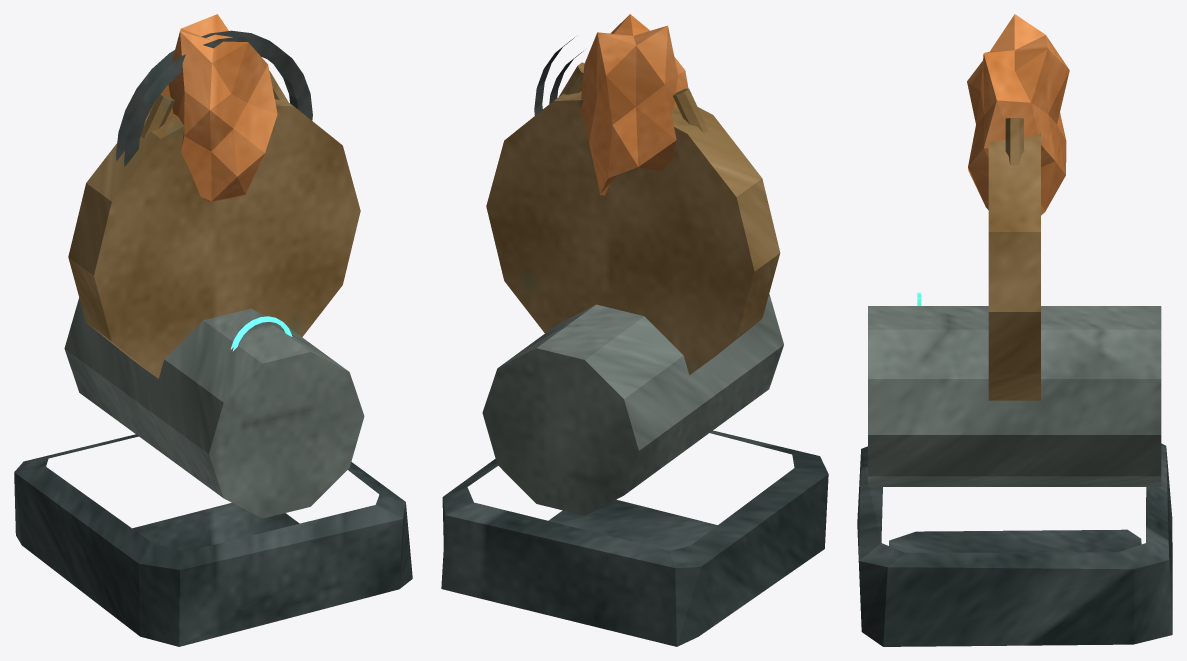
The model's file is 0595_relic_pedestal_20.glb.
3 renders of one model, left to right at view 1: azimuth 30°, elevation 25°; view 2: azimuth 150°, elevation 25°; view 3: azimuth 270°, elevation 25°, orthographic.
Parts seen in each view (by area): view 1: brass, stone_dark, stone, amber, iron; view 2: brass, stone_dark, stone, amber, iron; view 3: stone, stone_dark, brass, amber.
Boxes of the visible parts, x1=… form: brass: x1=68, y1=71, x2=360, y2=378; stone_dark: x1=14, y1=434, x2=412, y2=646; stone: x1=64, y1=298, x2=364, y2=518; amber: x1=149, y1=14, x2=277, y2=201; iron: x1=116, y1=30, x2=312, y2=166; brass: x1=486, y1=62, x2=780, y2=375; stone_dark: x1=441, y1=430, x2=828, y2=646; stone: x1=482, y1=294, x2=783, y2=515; amber: x1=580, y1=14, x2=688, y2=195; iron: x1=534, y1=37, x2=583, y2=115; stone: x1=868, y1=306, x2=1161, y2=486; stone_dark: x1=857, y1=443, x2=1172, y2=646; brass: x1=988, y1=118, x2=1040, y2=400; amber: x1=967, y1=14, x2=1069, y2=215.
Size of the model in its own units: 0.9663 by 1.88 by 0.9679.
6 materials, 6 textured.
